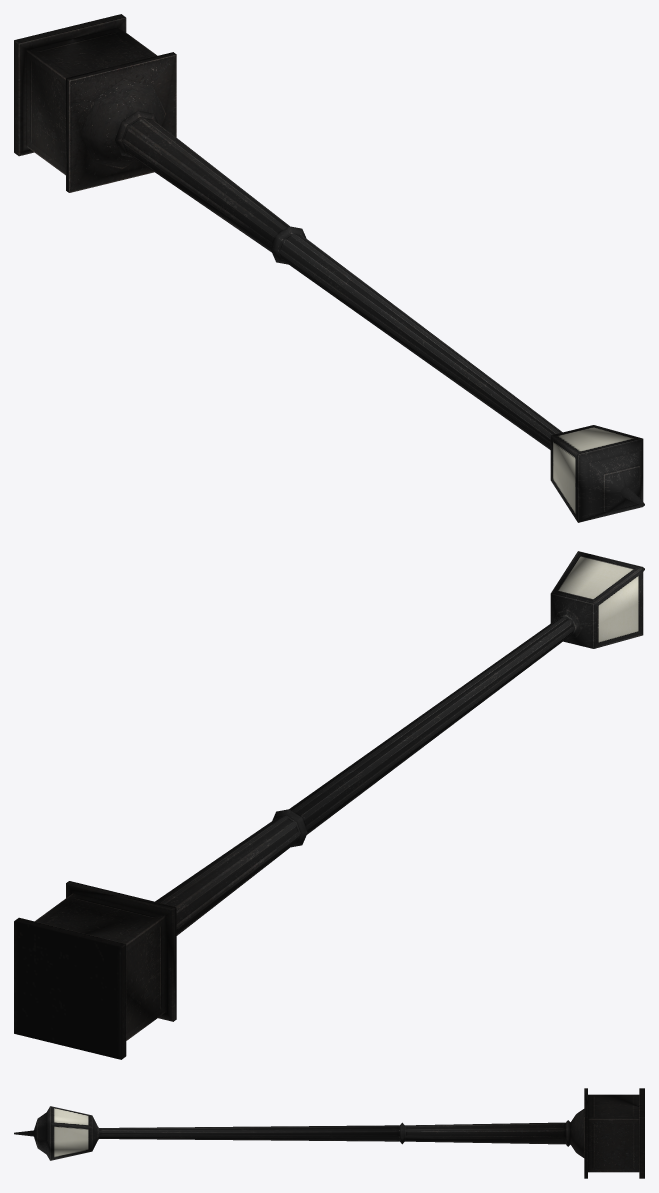
Rendered from lamppost.fbx.
3 views of the same model, one above another, from view 1: azimuth 30°, elevation 25°; view 2: azimuth 150°, elevation 25°; view 3: azimuth 270°, elevation 25° (orthographic). The views are drawn at different scales.
Parts seen in each view (by area): view 1: lamppost; view 2: lamppost; view 3: lamppost.
Boxes of the visible parts, x1,y1,x2,y2 form: lamppost: [14, 14, 644, 522]; lamppost: [14, 551, 644, 1059]; lamppost: [14, 1088, 644, 1178].
Bounding box in the file's own units: 0.444 × 0.444 × 4.12.
